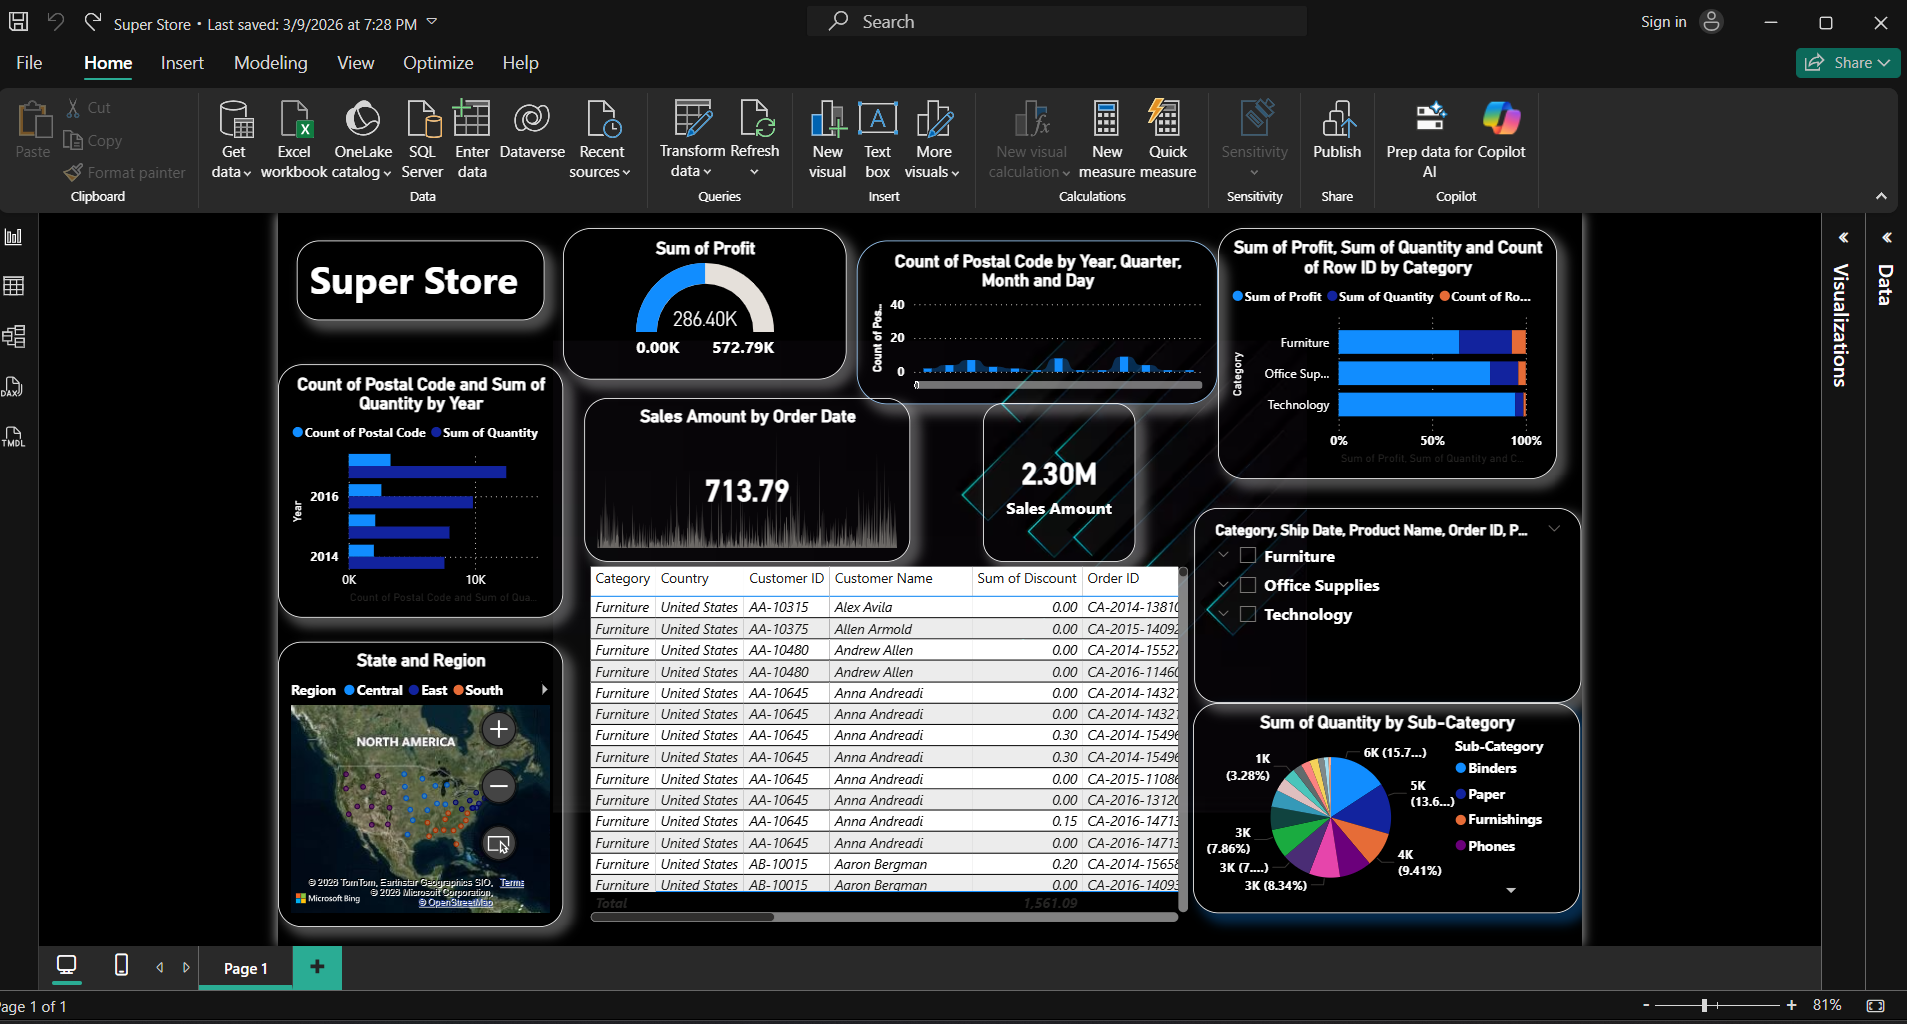

The dashboard page shown, as its layout file describes it:
{"tool":"powerbi","page":{"name":"Page 1","canvas":[1280,720],"ordinal":0},"visuals":[{"type":"map","fields":{"Category":["Sample - Superstore.State"],"Series":["Sample - Superstore.Region"]},"box":[0,421.3,279.9,279.9],"z":0},{"type":"textbox","box":[17.8,27.4,242.9,78.2],"z":1000},{"type":"clusteredBarChart","fields":{"Category":["Sample - Superstore.Order Date.Variation.Date Hierarchy.Year","Sample - Superstore.Order Date.Variation.Date Hierarchy.Quarter","Sample - Superstore.Order Date.Variation.Date Hierarchy.Month","Sample - Superstore.Order Date.Variation.Date Hierarchy.Day"],"Y":["CountNonNull(Sample - Superstore.Postal Code)","Sum(Sample - Superstore.Quantity)"]},"box":[0,148.5,279.8,249.1],"z":2000},{"type":"gauge","fields":{"Y":["Sum(Sample - Superstore.Profit)"]},"box":[279.8,14.7,278.5,148.5],"z":3000},{"type":"hundredPercentStackedBarChart","fields":{"Category":["Sample - Superstore.Category","Sample - Superstore.Order Date.Variation.Date Hierarchy.Year","Sample - Superstore.Order Date.Variation.Date Hierarchy.Quarter","Sample - Superstore.Order Date.Variation.Date Hierarchy.Month","Sample - Superstore.Order Date.Variation.Date Hierarchy.Day"],"Y":["Sum(Sample - Superstore.Profit)","Sum(Sample - Superstore.Quantity)","CountNonNull(Sample - Superstore.Row ID)"]},"box":[922.7,14.7,332.5,246.6],"z":4000},{"type":"tableEx","fields":{"Values":["Sample - Superstore.Category","Sample - Superstore.Country","Sample - Superstore.Customer ID","Sample - Superstore.Customer Name","Sum(Sample - Superstore.Discount)","Sample - Superstore.Order ID","Sample - Superstore.Order Date.Variation.Date Hierarchy.Year","Sample - Superstore.Order Date.Variation.Date Hierarchy.Quarter","Sample - Superstore.Order Date.Variation.Date Hierarchy.Month","Sample - Superstore.Order Date.Variation.Date Hierarchy.Day","Sample - Superstore.Region","Sum(Sample - Superstore.Profit)"]},"box":[300.6,342.3,597.5,358.3],"z":5000},{"type":"ribbonChart","fields":{"Y":["CountNonNull(Sample - Superstore.Postal Code)"],"Category":["Sample - Superstore.Ship Date.Variation.Date Hierarchy.Year","Sample - Superstore.Ship Date.Variation.Date Hierarchy.Quarter","Sample - Superstore.Ship Date.Variation.Date Hierarchy.Month","Sample - Superstore.Ship Date.Variation.Date Hierarchy.Day"]},"box":[568.1,27,354.6,160.7],"z":6000},{"type":"pieChart","fields":{"Y":["Sum(Sample - Superstore.Quantity)"],"Category":["Sample - Superstore.Sub-Category"]},"box":[898.2,481,380.4,206.1],"z":7000},{"type":"slicer","fields":{"Values":["Sample - Superstore.Category","Sample - Superstore.Ship Date","Sample - Superstore.Product Name","Sample - Superstore.Order ID","Sample - Superstore.Product ID","Sample - Superstore.Quantity"]},"box":[899.4,289.6,380.4,191.4],"z":8000},{"type":"kpi","fields":{"Indicator":["Sample - Superstore.Sales Amount"],"TrendLine":["Sample - Superstore.Order Date"]},"box":[300.6,181.6,320.2,160.7],"z":9000},{"type":"card","fields":{"Values":["Sample - Superstore.Sales Amount"]},"box":[692,186.5,149.7,155.8],"z":10000}]}

Visuals, with their boxes on the page's 1280x720 design canvas (x1, y1, x2, y2). These are canvas units, not pixel positions in the 1907x1024 screenshot, which may show the page scaled, cropped or inside an application window:
map - Sample - Superstore.State x Sample - Superstore.Region: Rect(0, 421, 280, 701)
textbox: Rect(18, 27, 261, 106)
clusteredBarChart - Sample - Superstore.Order Date.Variation.Date Hierarchy.Year x Sample - Superstore.Order Date.Variation.Date Hierarchy.Quarter: Rect(0, 148, 280, 398)
gauge - Sum(Sample - Superstore.Profit): Rect(280, 15, 558, 163)
hundredPercentStackedBarChart - Sample - Superstore.Category x Sample - Superstore.Order Date.Variation.Date Hierarchy.Year: Rect(923, 15, 1255, 261)
tableEx - Sample - Superstore.Category x Sample - Superstore.Country: Rect(301, 342, 898, 701)
ribbonChart - CountNonNull(Sample - Superstore.Postal Code) x Sample - Superstore.Ship Date.Variation.Date Hierarchy.Year: Rect(568, 27, 923, 188)
pieChart - Sum(Sample - Superstore.Quantity) x Sample - Superstore.Sub-Category: Rect(898, 481, 1279, 687)
slicer - Sample - Superstore.Category x Sample - Superstore.Ship Date: Rect(899, 290, 1280, 481)
kpi - Sample - Superstore.Sales Amount x Sample - Superstore.Order Date: Rect(301, 182, 621, 342)
card - Sample - Superstore.Sales Amount: Rect(692, 186, 842, 342)
